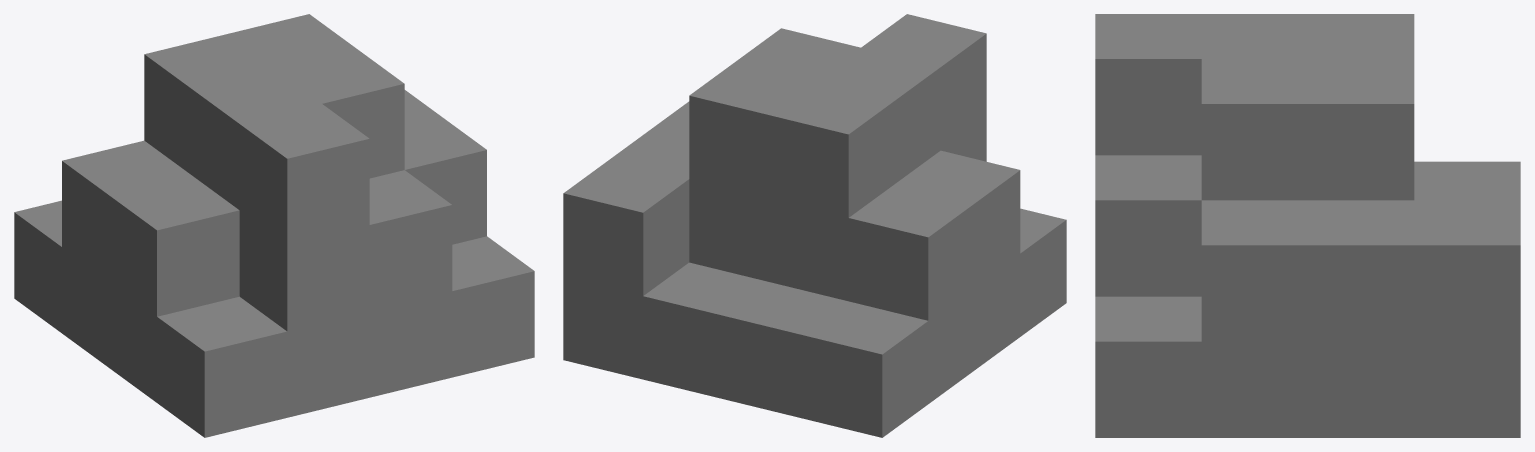
File: rock.obj
3 renders of one model, left to right at view 1: azimuth 30°, elevation 25°; view 2: azimuth 150°, elevation 25°; view 3: azimuth 270°, elevation 25°, orthographic. The views are drawn at different scales.
Bounding box in the file's own units: 0.4 × 0.3 × 0.4.
1 material, 1 textured.
